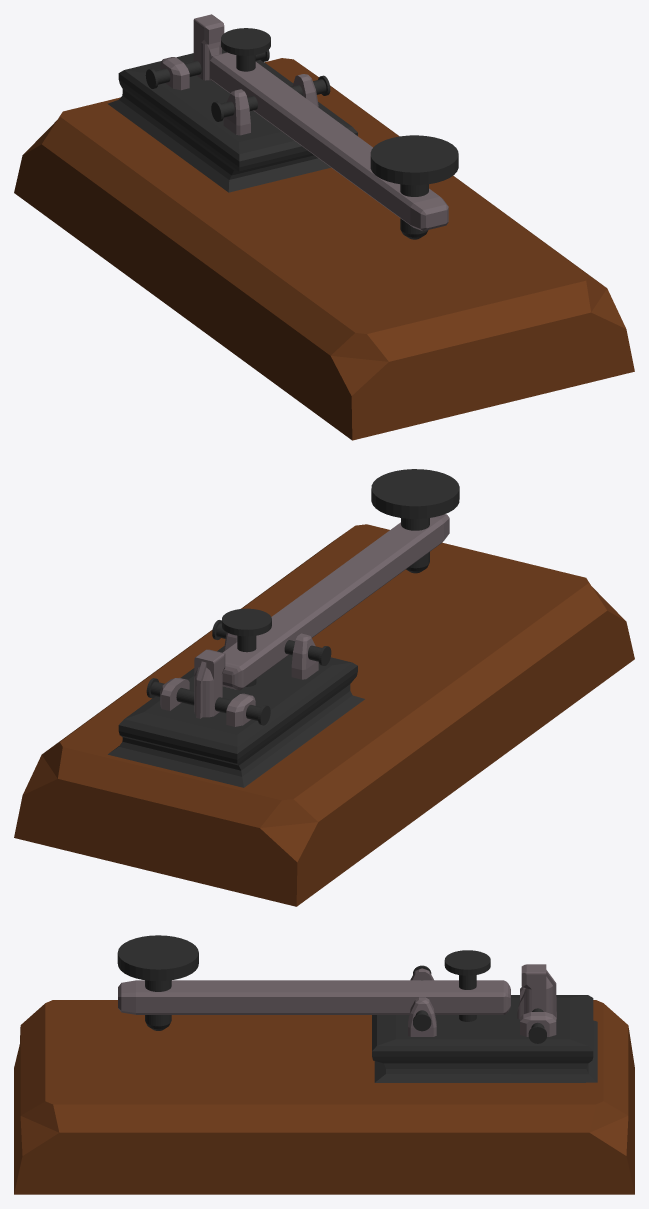
File: V_Francisco07_Telegrafo.fbx
3 renders of one model, top to bottom at view 1: azimuth 30°, elevation 25°; view 2: azimuth 150°, elevation 25°; view 3: azimuth 270°, elevation 25°, orthographic. The views are drawn at different scales.
Parts seen in each view (by area): view 1: Telegrafo; view 2: Telegrafo; view 3: Telegrafo.
Boxes of the visible parts, <box> form: Telegrafo: <box>14,14,634,440</box>; Telegrafo: <box>14,469,634,906</box>; Telegrafo: <box>14,935,634,1194</box>.
Bounding box in the file's own units: 12.71 × 8.37 × 26.37.
